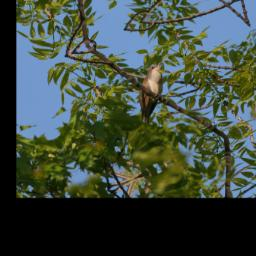Cuckoo: (115, 61, 189, 127)
